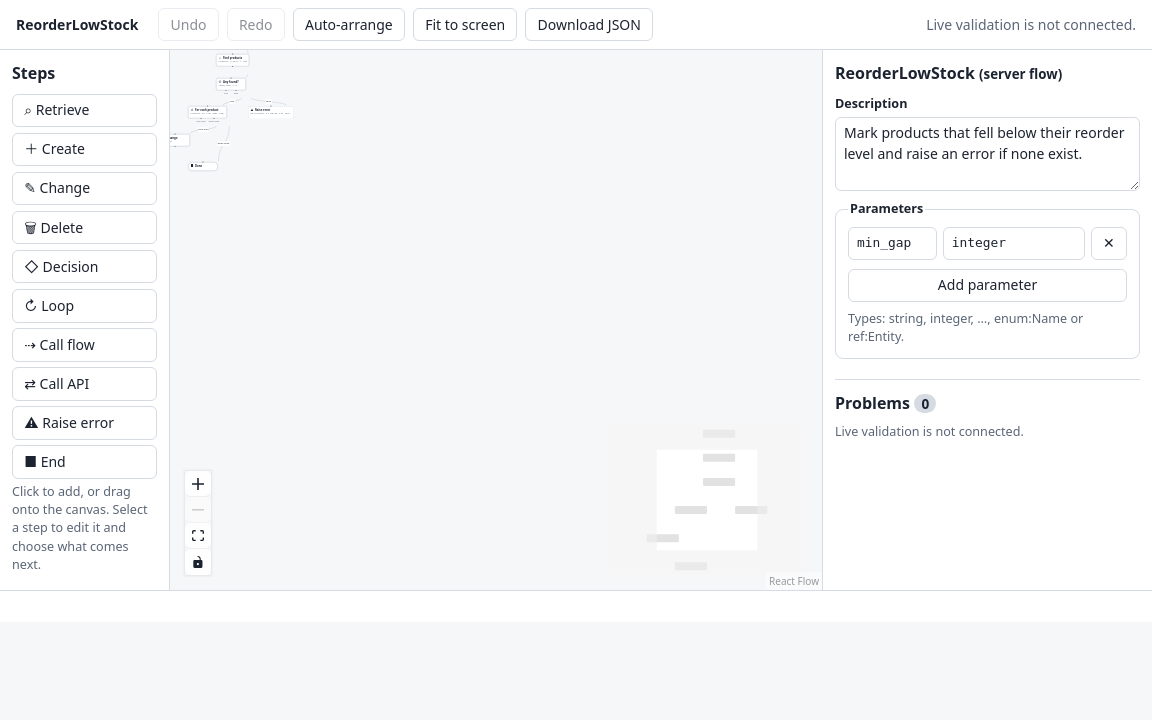
Test: FlowEditor › edits flow parameters when nothing is selected
Expected: the field named "Parameter 1 name" holds "min_gap", 848,227 -> 937,260
Click the button "Add parameter".
click(988, 286)  # box 848,269 -> 1127,302
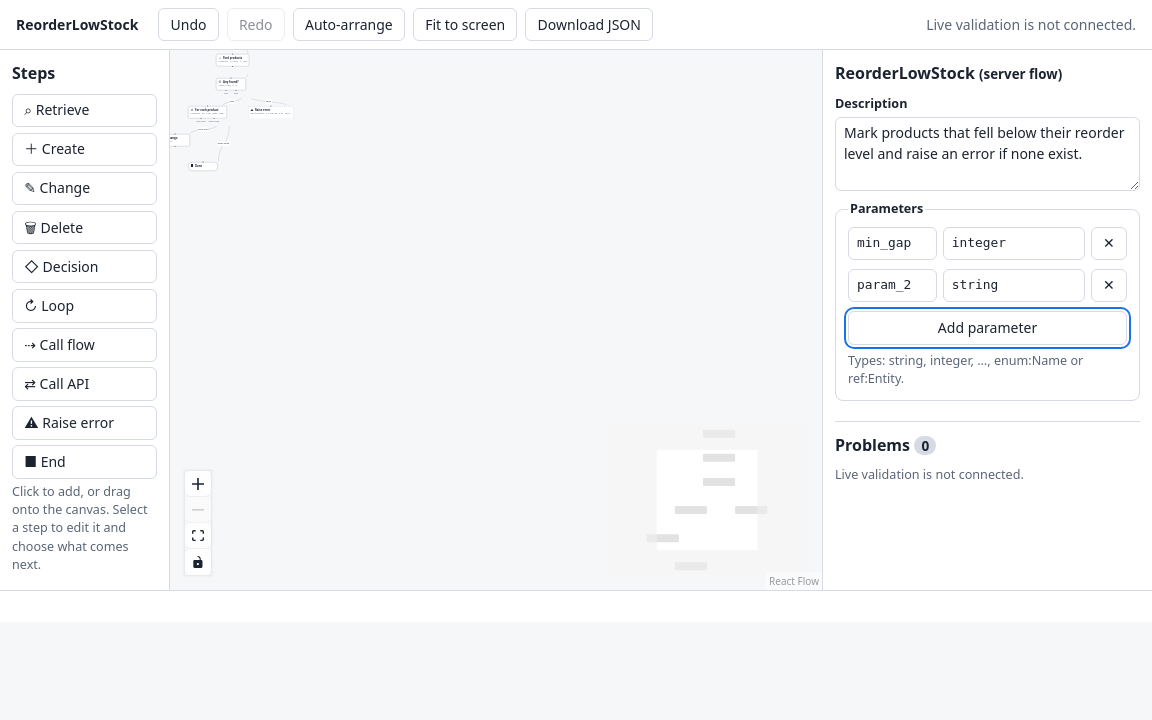
Expected: the field named "Parameter 2 name" holds "param_2", 848,269 -> 937,302
